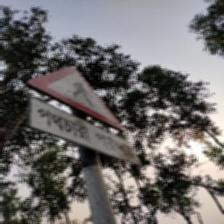Pedestrian-crossing: (25, 62, 146, 171)
